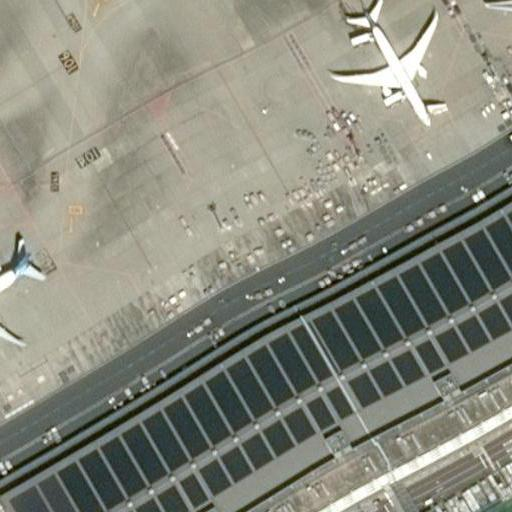Aircraft: (333, 0, 438, 124), (0, 231, 42, 350), (479, 0, 512, 45)
